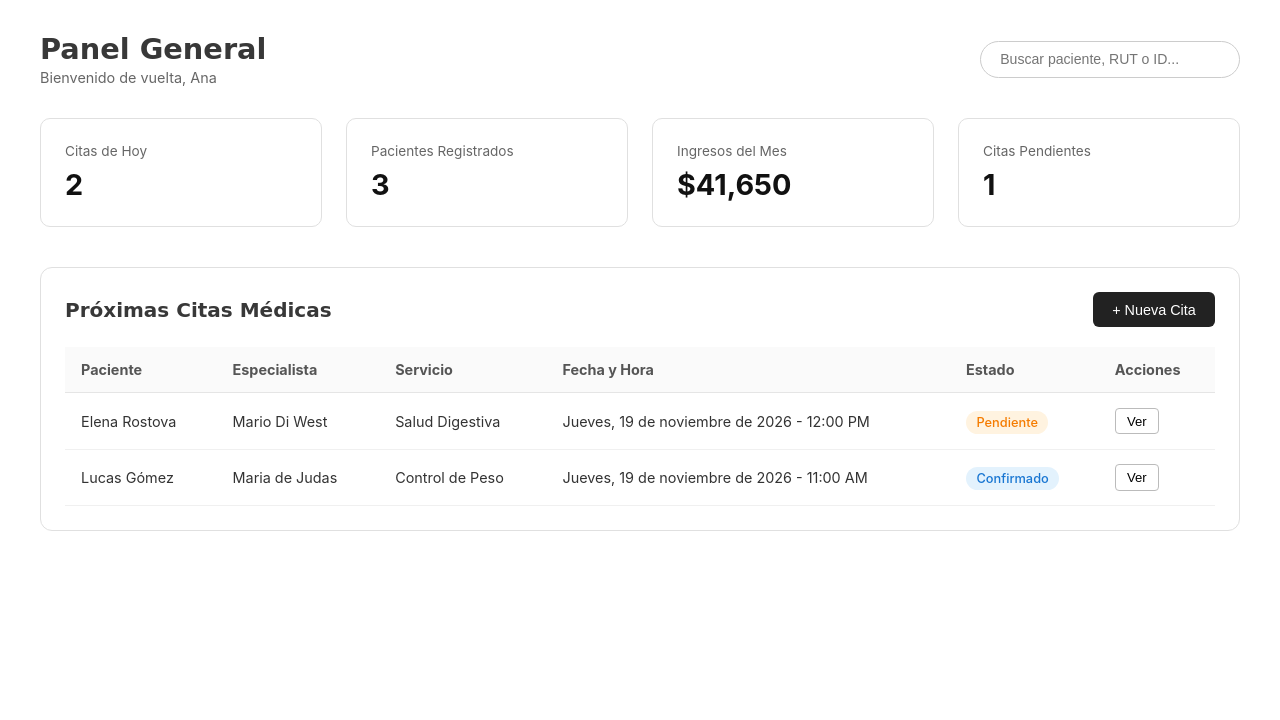
Test case: Dashboard › lista las próximas citas sin mostrar las canceladas y permite buscar
Expected: the text "Lucas Gómez" is shown, top-left (65, 449), bottom-right (217, 506)
Expected: the text "Elena Rostova" is shown, top-left (65, 393), bottom-right (217, 449)
In the field with placeholder "Buscar paciente, RUT o ID...": coordinates (1110, 59) top-left (980, 40), bottom-right (1240, 78), type "Elena"
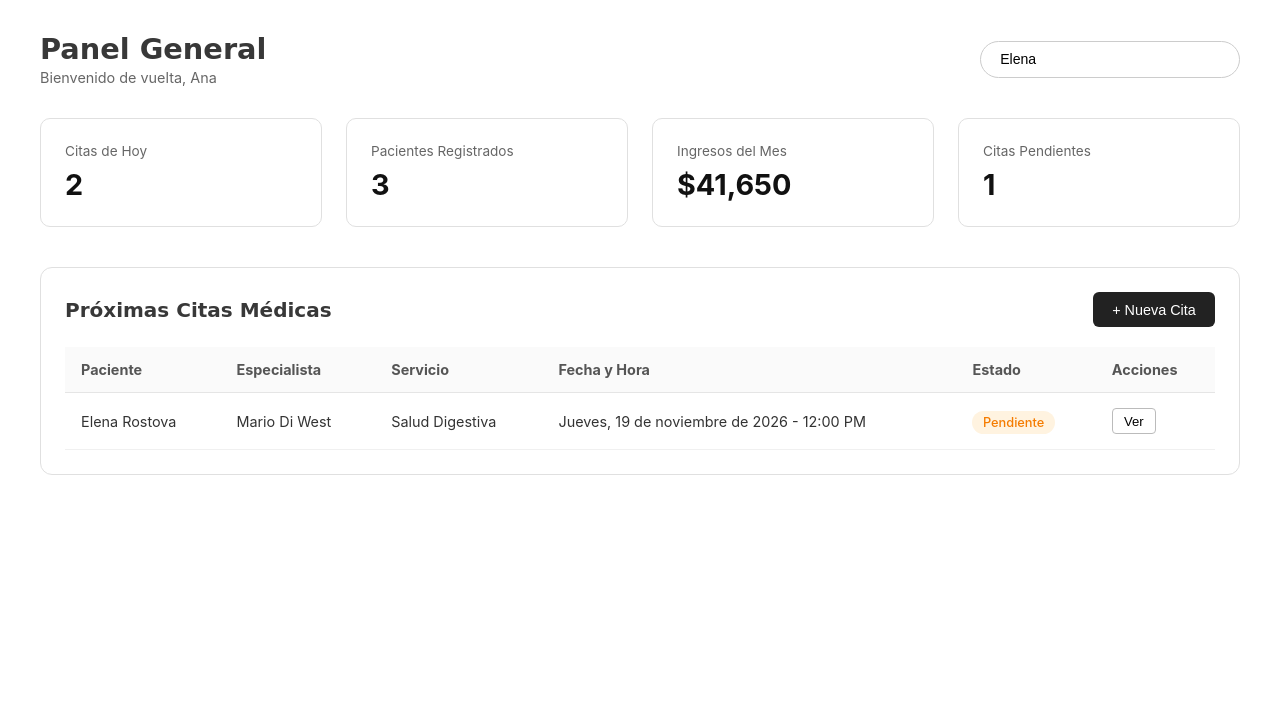
Expected: the text "Elena Rostova" is shown, top-left (65, 393), bottom-right (220, 449)
Expected: the text "Lucas Gómez" is gone
